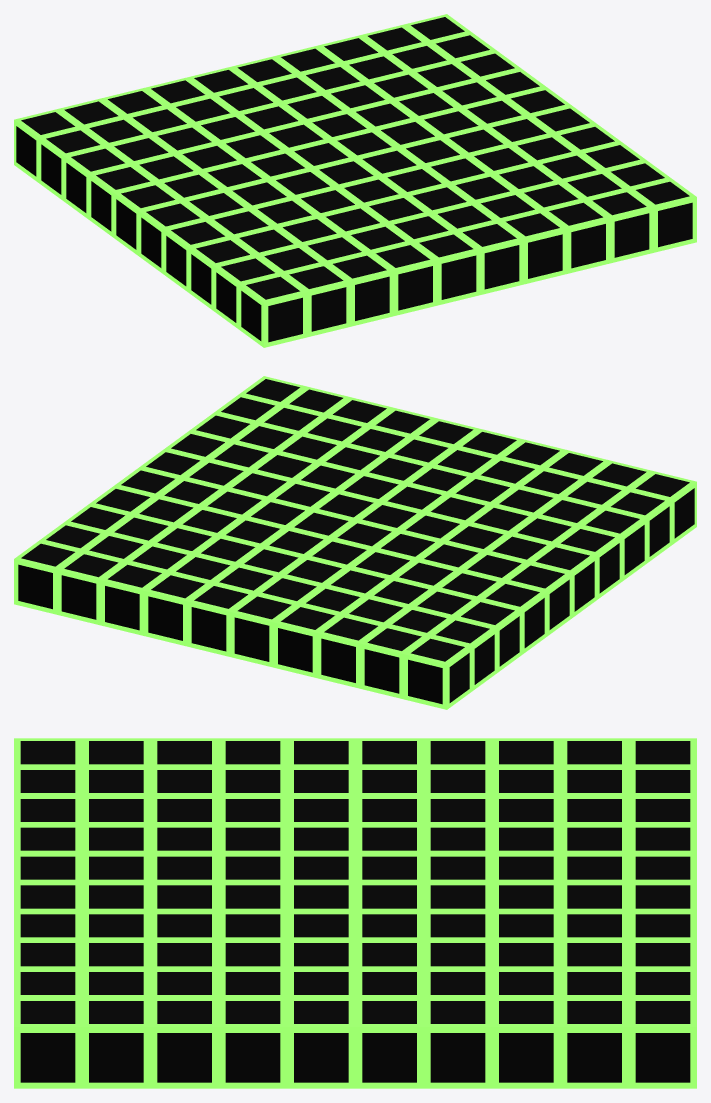
The model's file is WinLoc.fbx.
The picture shows the model from 3 angles, top to bottom: view 1: azimuth 30°, elevation 25°; view 2: azimuth 150°, elevation 25°; view 3: azimuth 270°, elevation 25°; orthographic projection. The views are drawn at different scales.
Visible parts, largest first — view 1: Cube; view 2: Cube; view 3: Cube.
Boxes of the visible parts, x1,y1,x2,y2 form: Cube: (14, 14, 696, 347); Cube: (14, 376, 696, 709); Cube: (14, 738, 696, 1088).
Size of the model in its own units: 2000 by 200 by 2000.
